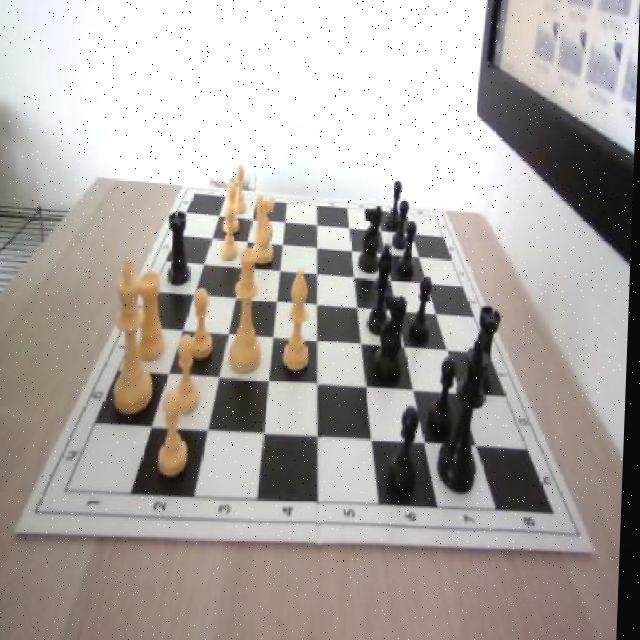bishop: (368, 243, 394, 340)
black-bishop: (440, 331, 491, 495)
black-king: (375, 295, 409, 387), (360, 203, 384, 273)
black-knight: (392, 409, 424, 497), (430, 354, 458, 439), (410, 274, 435, 344), (399, 223, 418, 279), (387, 182, 405, 233), (394, 200, 412, 248)
black-queen: (467, 305, 504, 390), (167, 210, 195, 286)
black-rook: (284, 268, 315, 370)
white-bishop: (109, 260, 159, 414)
white-king: (251, 192, 277, 262)
white-knight: (159, 391, 194, 480), (177, 335, 209, 418), (190, 286, 218, 358), (222, 204, 243, 260), (224, 182, 241, 234), (234, 163, 248, 213)
white-pawn: (230, 246, 267, 373)
white-queen: (137, 272, 171, 361)
